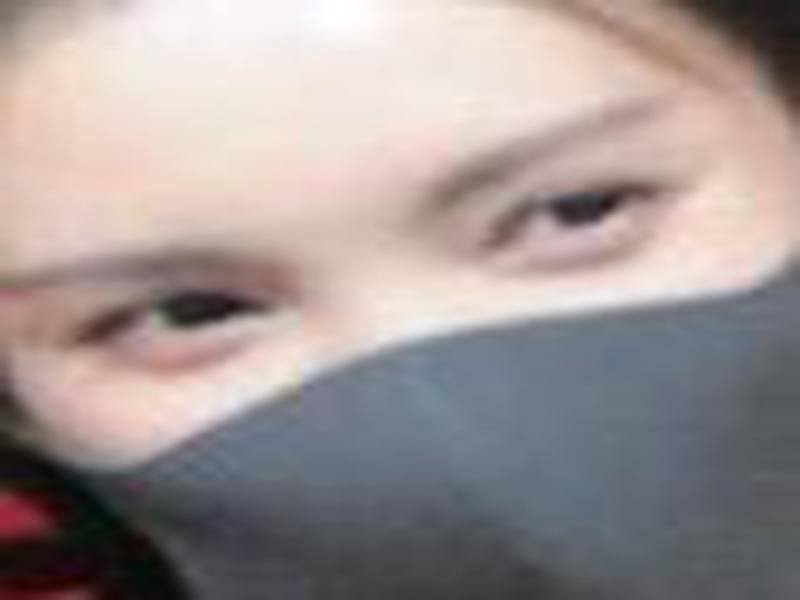with_mask: (5, 1, 800, 592)
